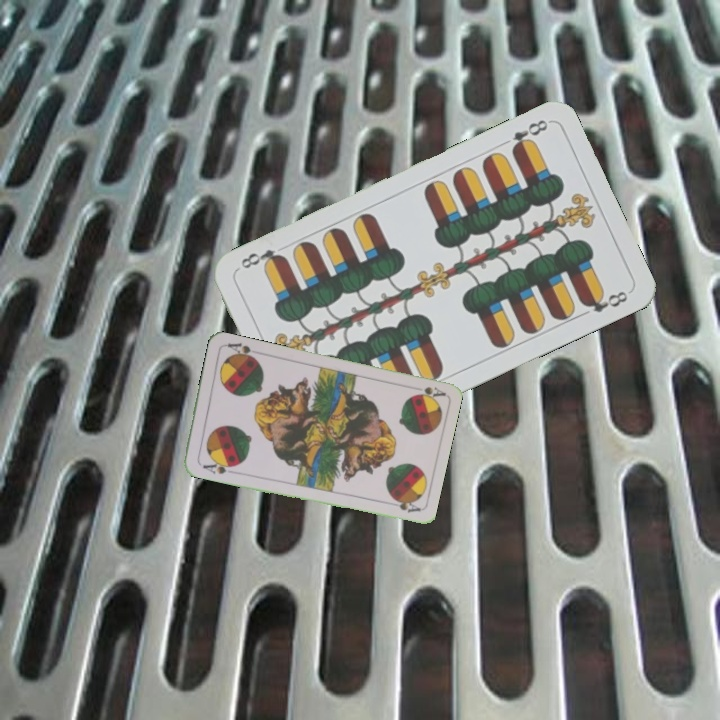E8: (507, 115, 551, 155)
SA: (198, 456, 237, 477), (409, 382, 447, 403)
